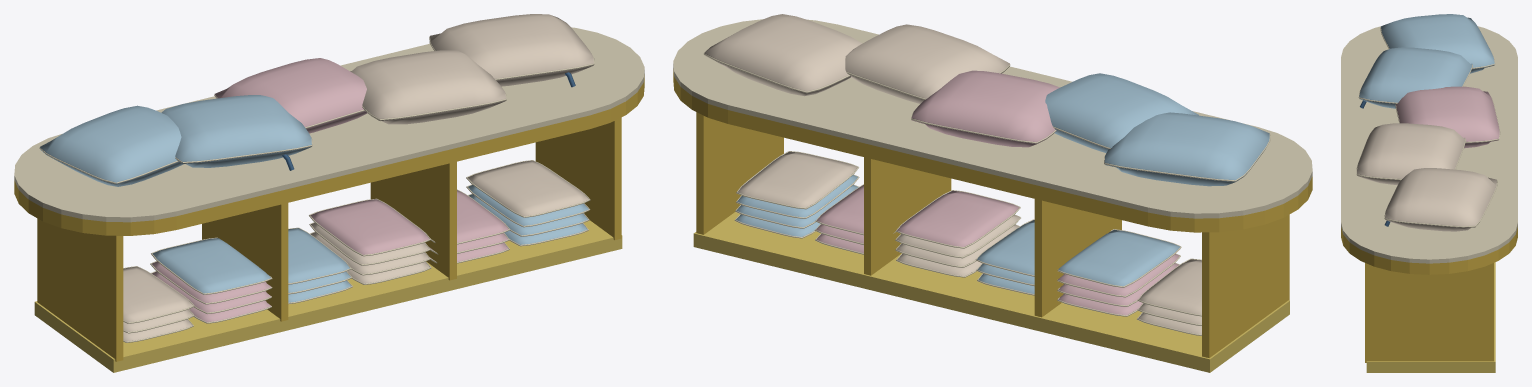
Rendered from pillows.glb.
3 views of the same model, side by side, from view 1: azimuth 30°, elevation 25°; view 2: azimuth 150°, elevation 25°; view 3: azimuth 270°, elevation 25° (orthographic). The views are drawn at different scales.
Visible parts, largest first — view 1: Surface; view 2: Surface; view 3: Surface.
Boxes of the visible parts, box(x1,y1,x2,y2) form: Surface: box(14, 14, 644, 372); Surface: box(673, 14, 1312, 372); Surface: box(1341, 14, 1517, 372).
Bounding box in the file's own units: 3.43 × 1.11 × 1.07.
